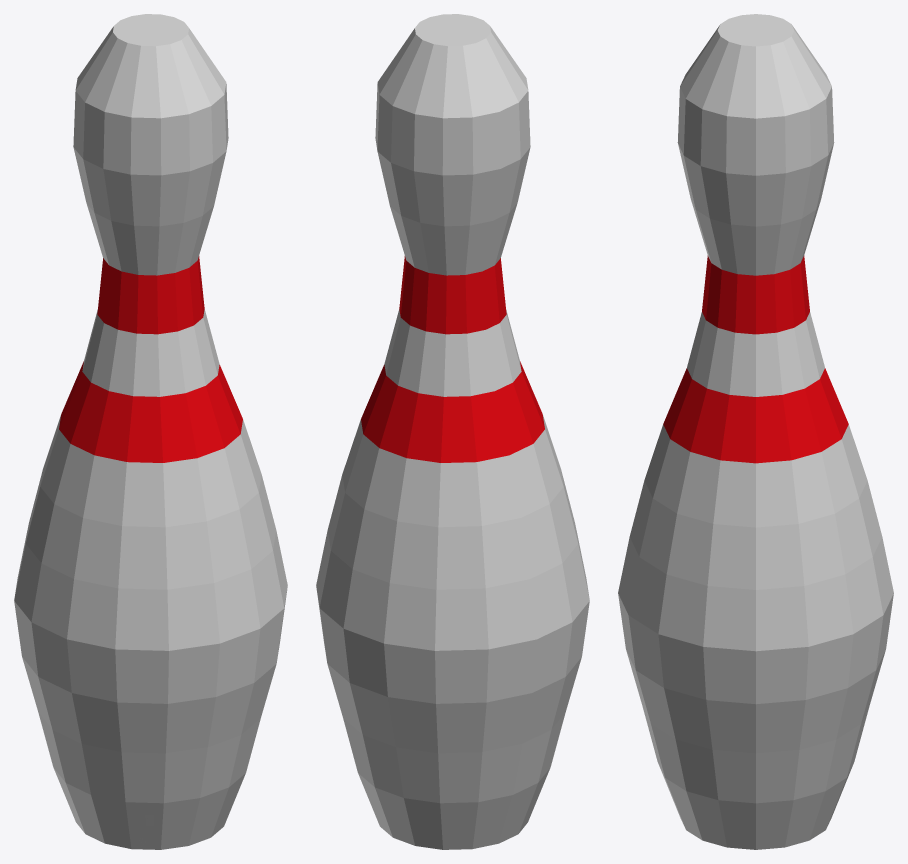
File: Bowling Pin RotFix.fbx
3 renders of one model, left to right at view 1: azimuth 30°, elevation 25°; view 2: azimuth 150°, elevation 25°; view 3: azimuth 270°, elevation 25°, orthographic.
Parts seen in each view (by area): view 1: Pin_Render; view 2: Pin_Render; view 3: Pin_Render.
Boxes of the visible parts, box(x1,y1,x2,y2) form: Pin_Render: box(14, 14, 287, 849); Pin_Render: box(316, 14, 589, 849); Pin_Render: box(618, 14, 893, 849).
Size of what is drawn, in the model's own units: 12 by 37.8 by 12.
